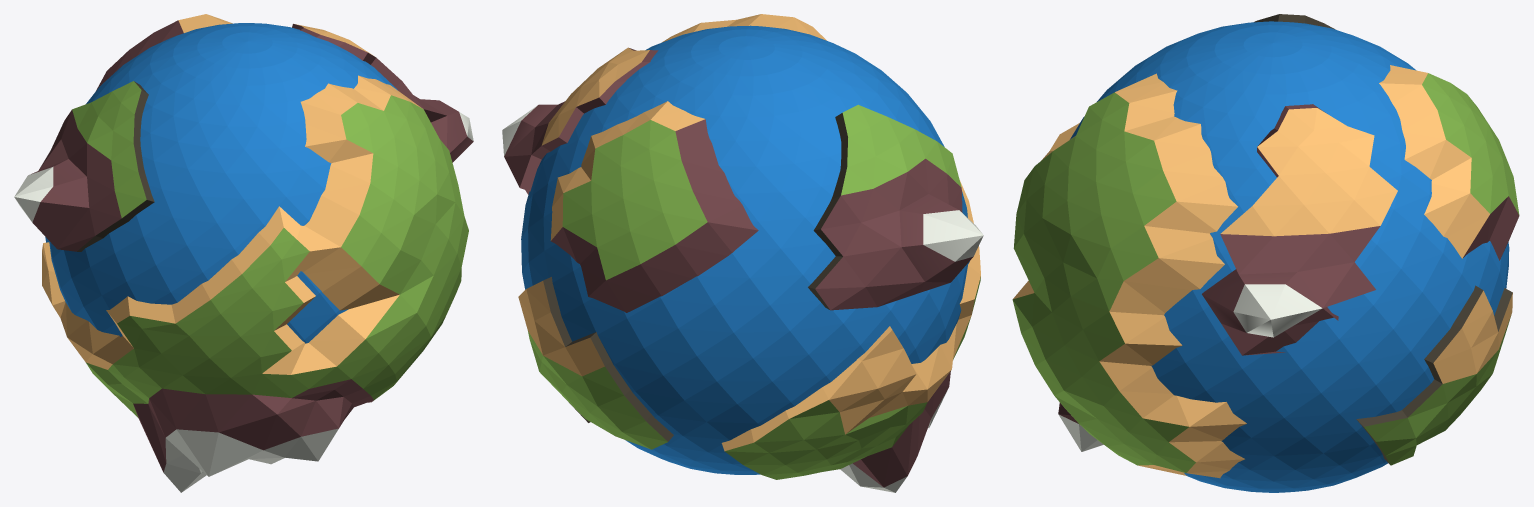
File: Planet_Model.fbx
The picture shows the model from 3 angles, left to right: view 1: azimuth 30°, elevation 25°; view 2: azimuth 150°, elevation 25°; view 3: azimuth 270°, elevation 25°; orthographic projection. The views are drawn at different scales.
Parts seen in each view (by area): view 1: pSphere3, pSphere4; view 2: pSphere3, pSphere4; view 3: pSphere3, pSphere4.
Boxes of the visible parts, bbox=[...] form: pSphere3: bbox=[14, 14, 473, 492]; pSphere4: bbox=[45, 23, 397, 343]; pSphere3: bbox=[502, 14, 983, 492]; pSphere4: bbox=[521, 25, 969, 474]; pSphere3: bbox=[1012, 14, 1519, 478]; pSphere4: bbox=[1070, 21, 1509, 492].
Size of the model in its own units: 2.36 by 2.04 by 2.
1 material, 1 textured.
